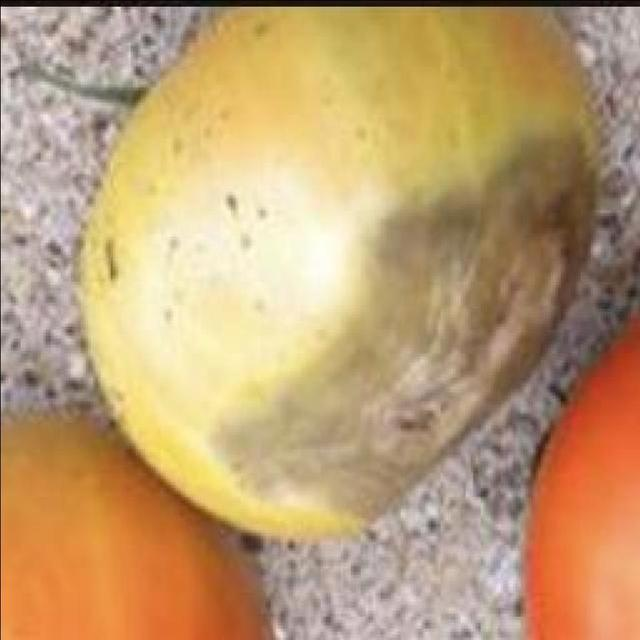Blossom End Rot Fruit: (146, 36, 404, 357)
